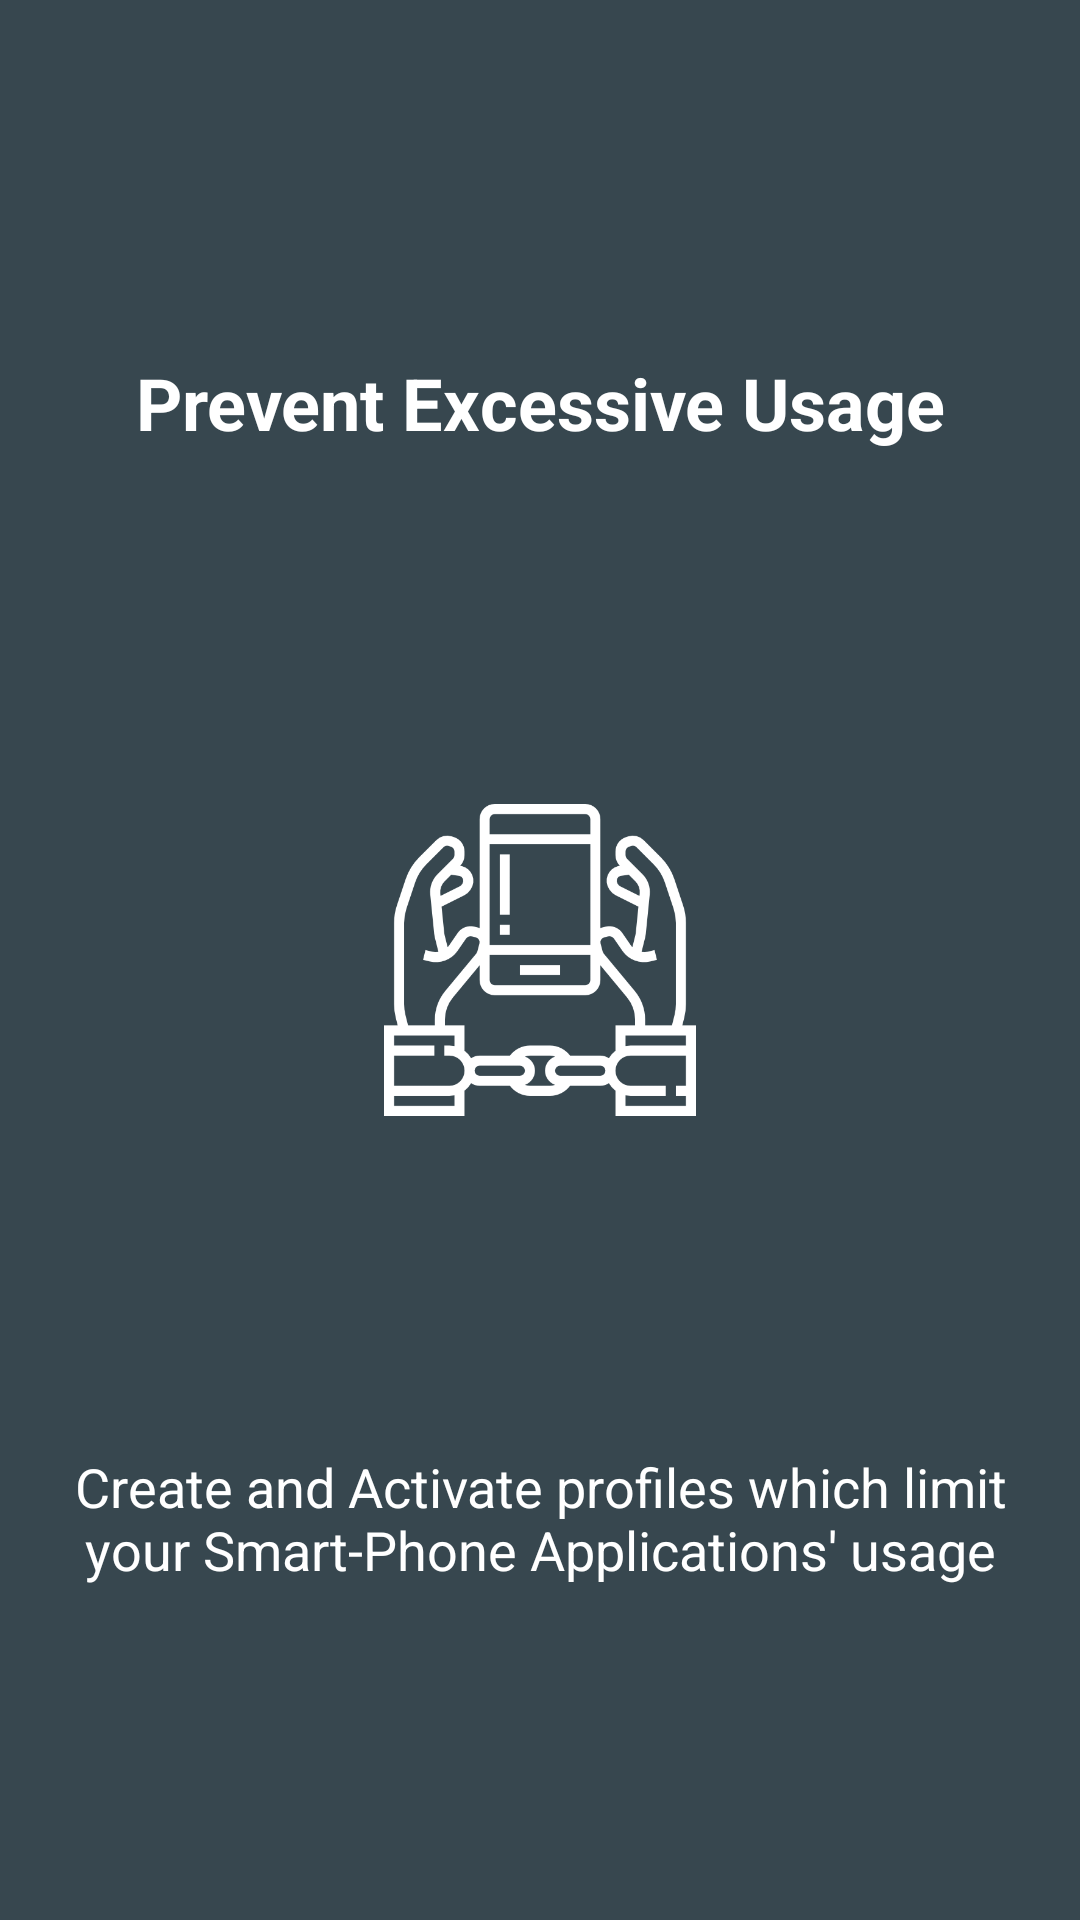

Screen size 1080px×1920px. Icon name, then its center in pixels as [x,y]:
addiction: [540,960]
